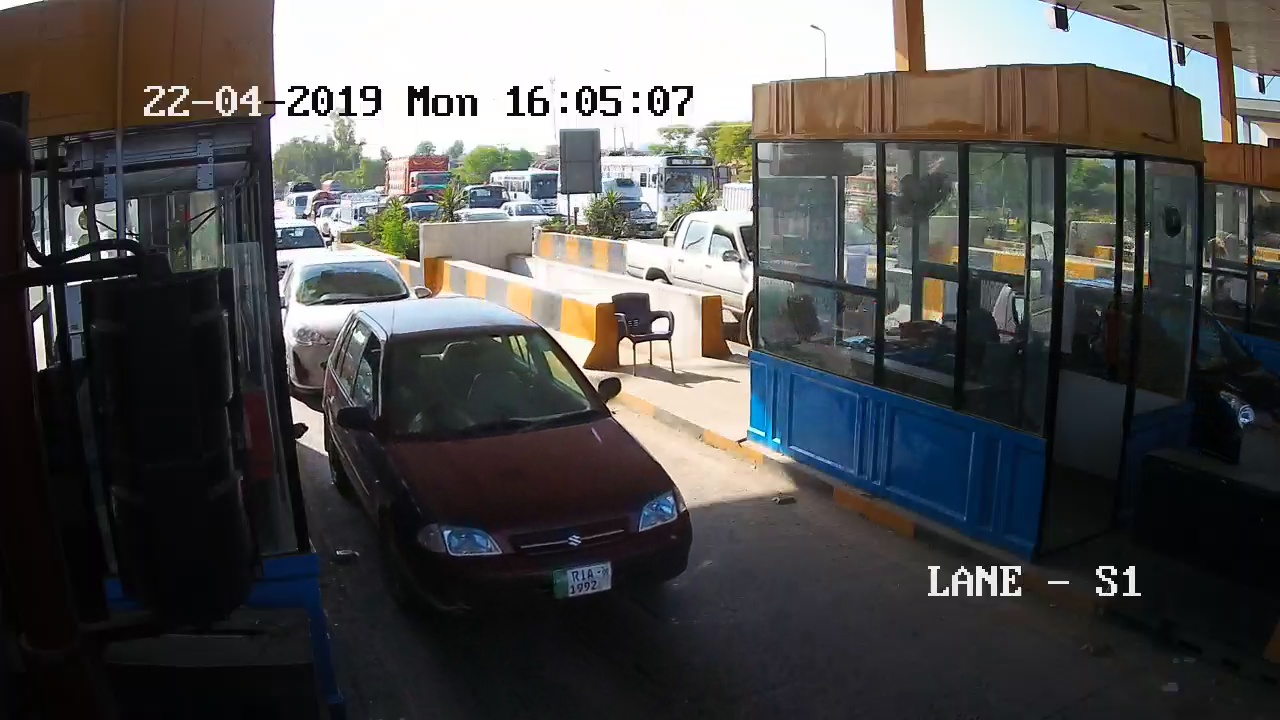Number Plate (Car): (549, 564, 621, 595)
